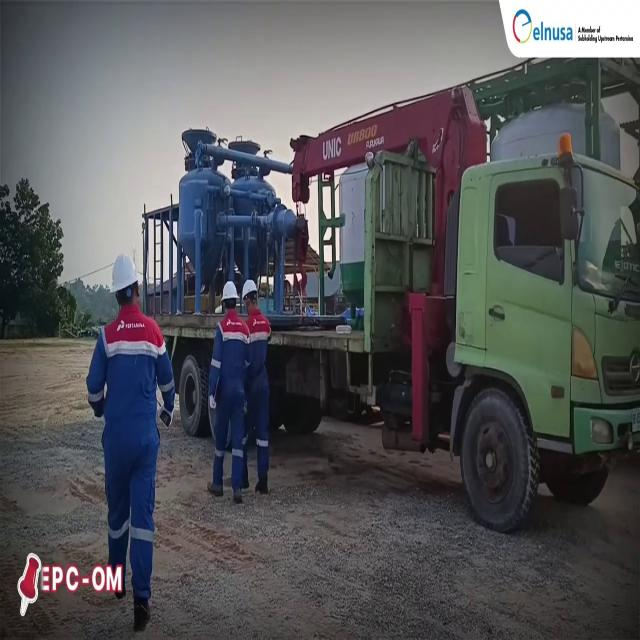Gloves: (159, 405, 173, 428)
Hardhat: (108, 258, 143, 292), (220, 279, 240, 303), (241, 278, 260, 302)
Overall Suit: (86, 298, 174, 572), (202, 317, 244, 480), (244, 310, 270, 470)
Safety Boots: (134, 590, 148, 629), (256, 469, 266, 496), (208, 479, 224, 495), (231, 486, 243, 505)
